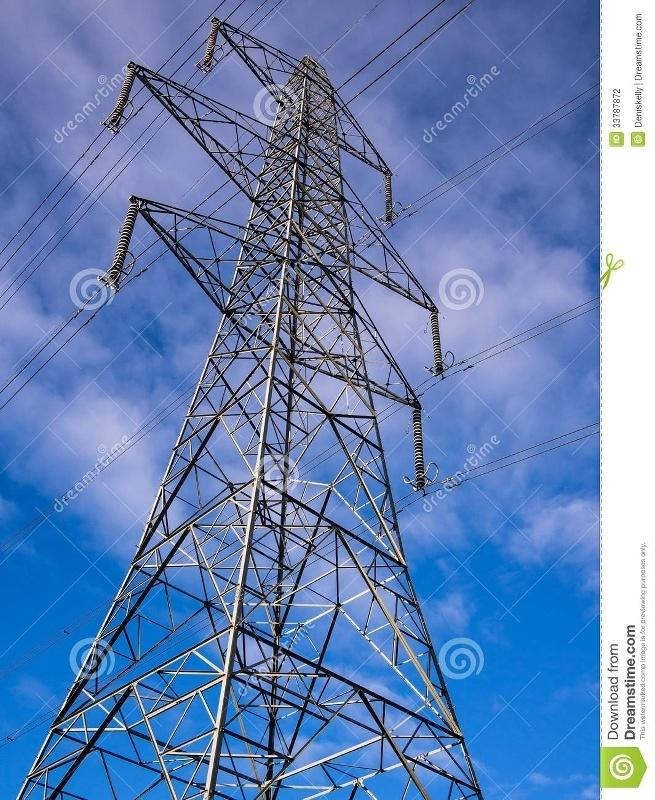power_tower: (35, 16, 504, 794)
